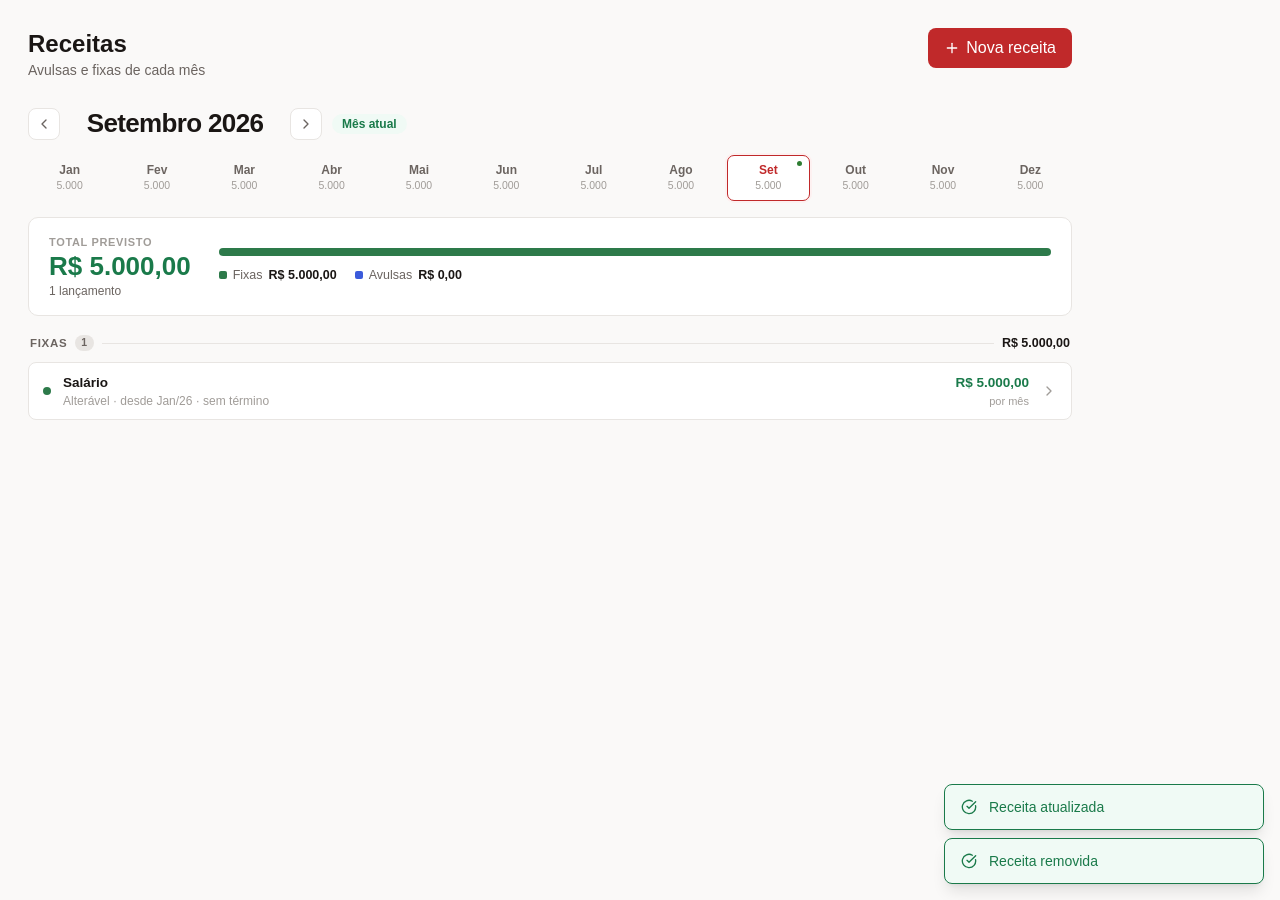
Test: página de receitas: Ficha de fixa › cria nova versão: a Ficha recarrega a série e volta à visualização
Click the button "Salário" at (86, 382), box [28, 362, 1072, 420]
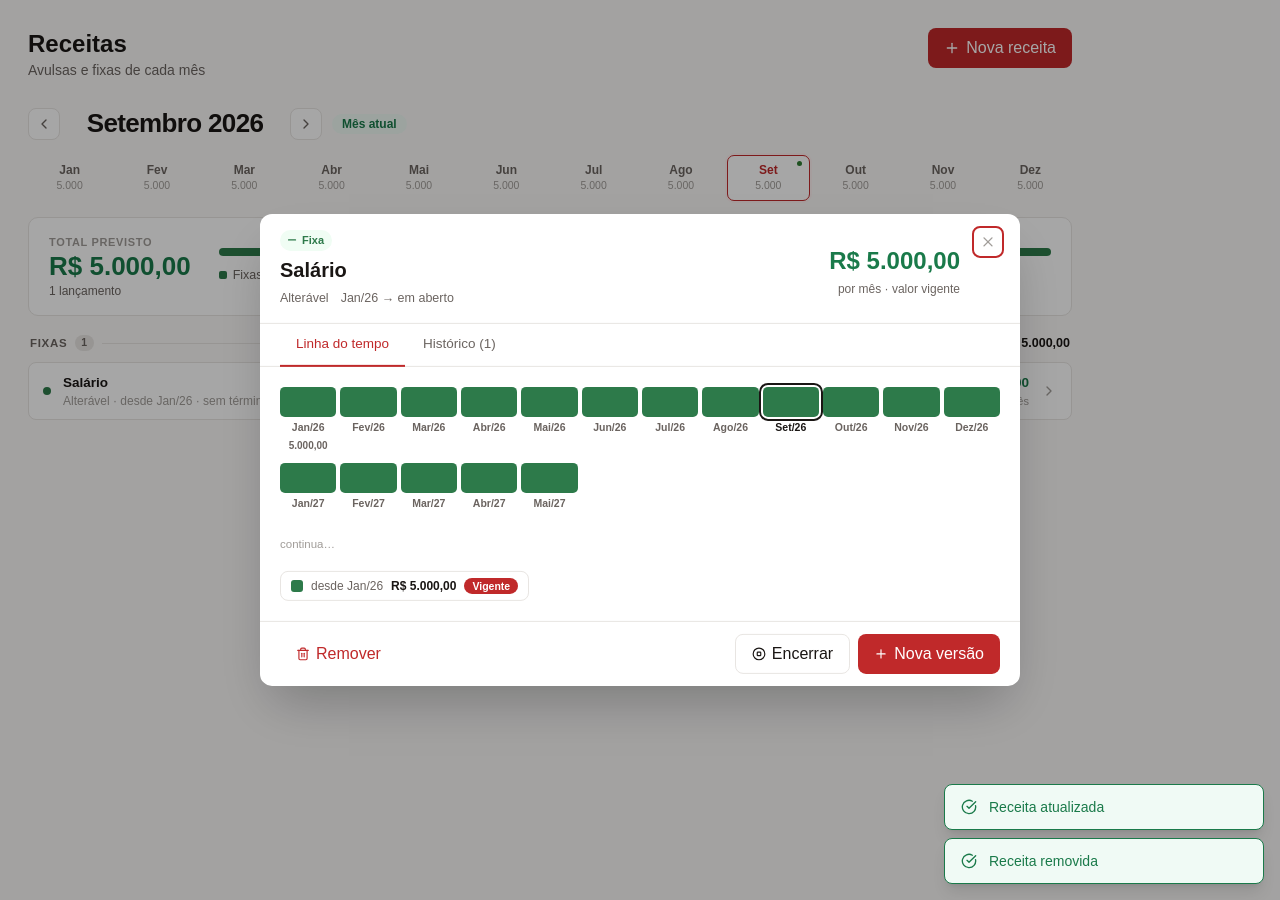
Result: the tab "Linha do tempo" is shown at [280, 324, 405, 366]
Click the button "Nova versão" at (929, 654), box [858, 634, 1000, 674]
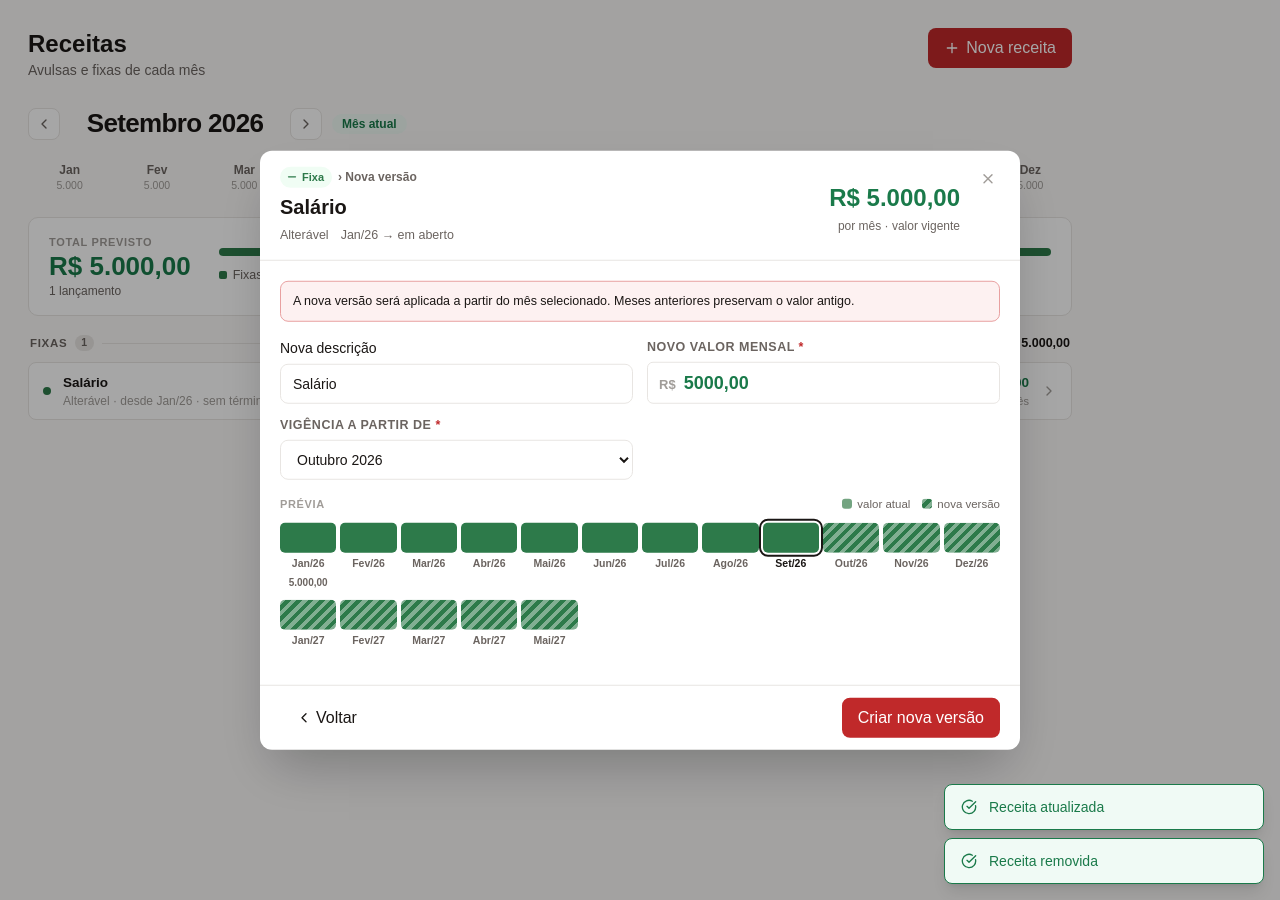
Result: the text "A nova versão será aplicada a partir do mês selecionado. Meses anteriores preservam o valor antigo." is shown at [293, 294, 854, 308]
Replace the text in the field labelled "Novo valor mensal *" with "5500" at (836, 382), box [684, 368, 988, 396]
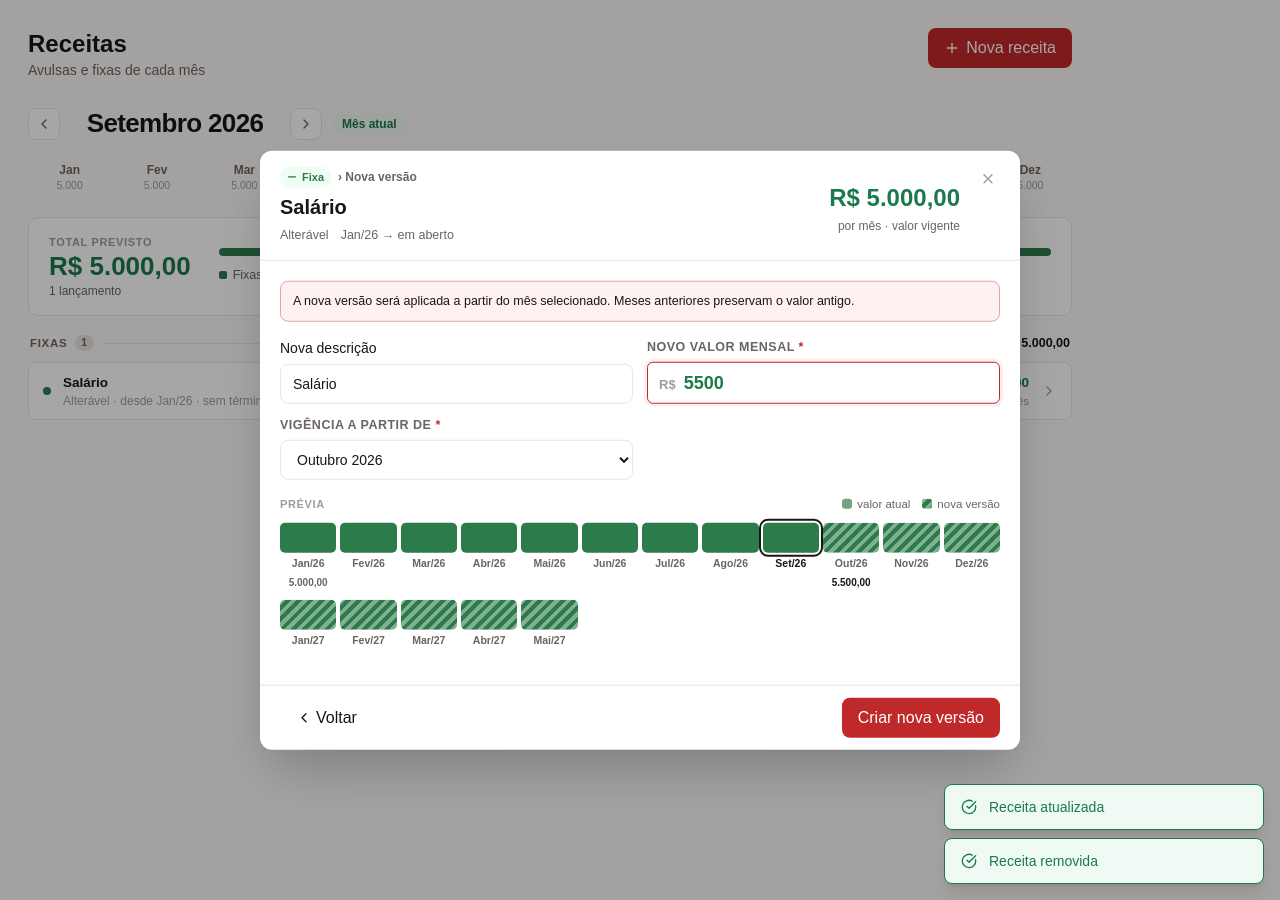
Select "Novembro 2026" in the dropdown labelled "Vigência a partir de *" at (456, 460), box [280, 440, 633, 480]
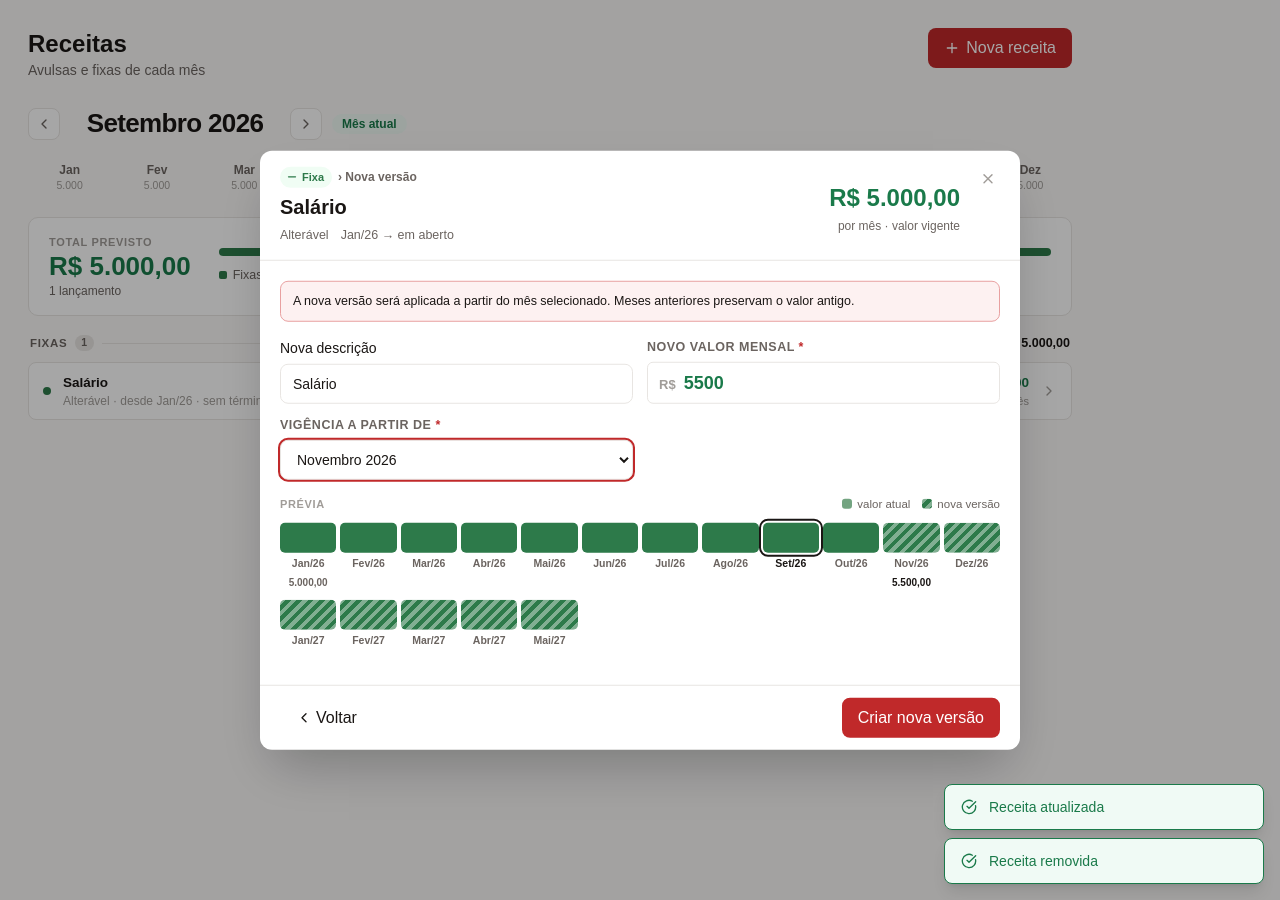
Click the button "Criar nova versão" at (921, 717), box [842, 697, 1000, 737]
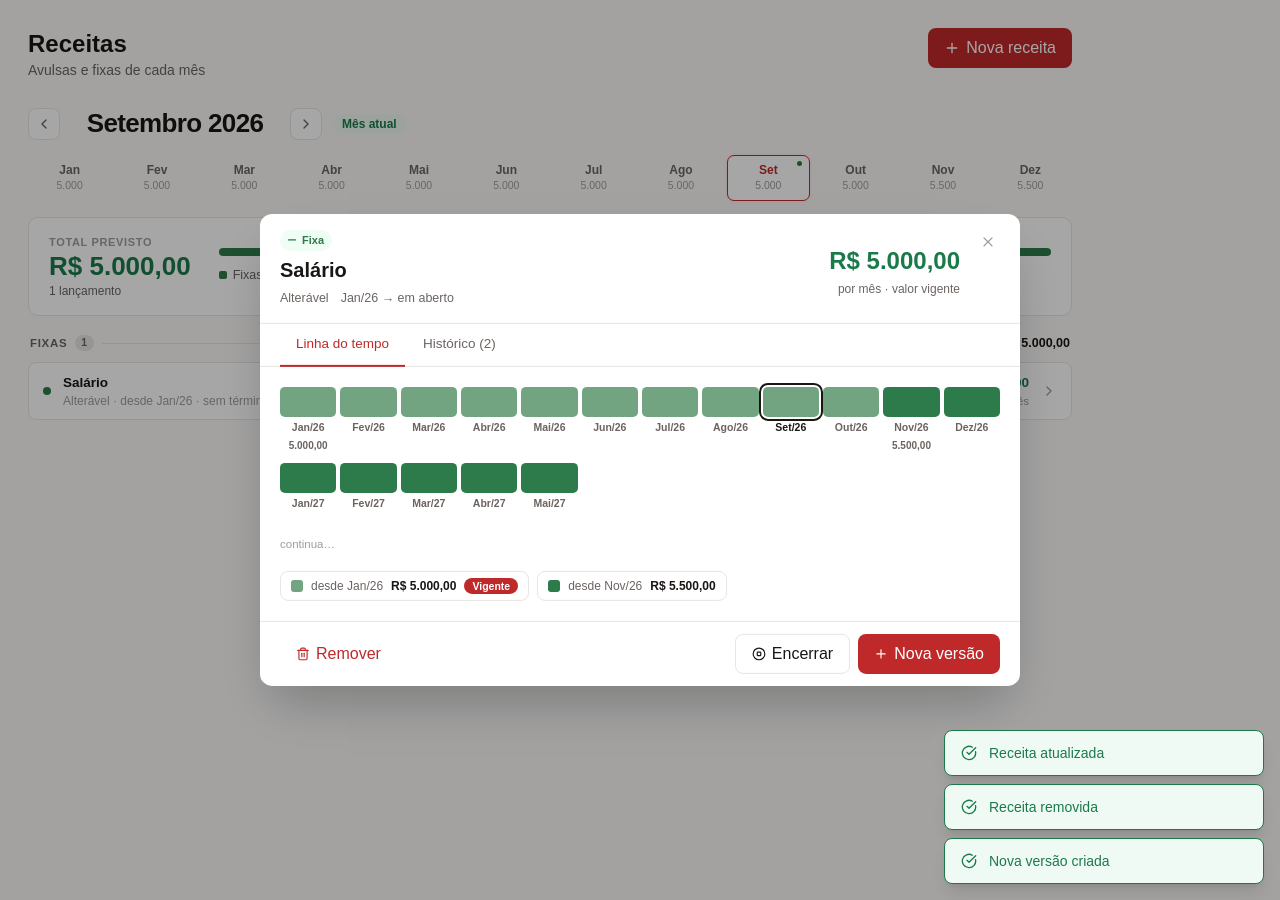
Result: the text "Nova versão criada" is shown at [989, 853, 1110, 869]
Result: the tab "Histórico (2)" is shown at [407, 324, 512, 366]
